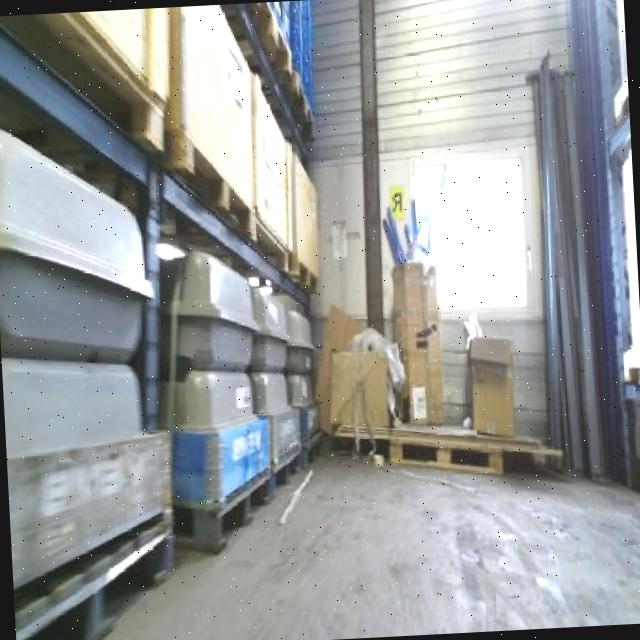pallet: (162, 121, 264, 252), (173, 462, 277, 551), (388, 419, 516, 488)
